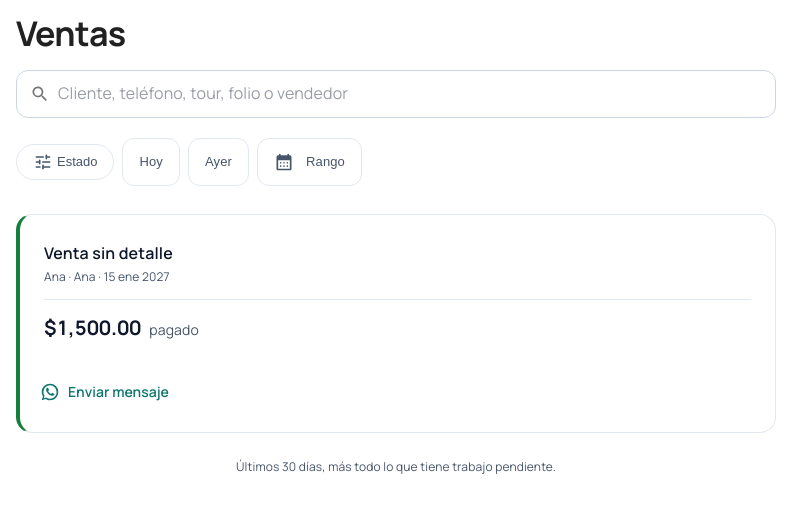
Scenario: US-A83 — the screen states ONE scope at a time › the window footer disappears once the fallback left the window
Check: the text "Últimos 30 días, más todo lo que tiene trabajo pendiente." is shown, box [236,458,556,475]
Type "leo" into the field named "Buscar ventas".
click(417, 94); type("leo")  # box [58,70,776,118]
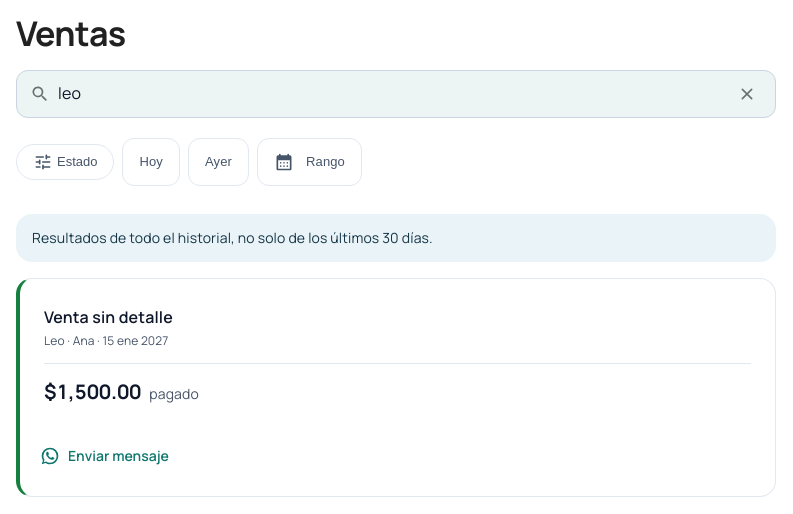
Check: the text "Resultados de todo el historial" is shown, box [32,228,382,247]
Check: the text "más todo lo que tiene trabajo pendiente" is gone
